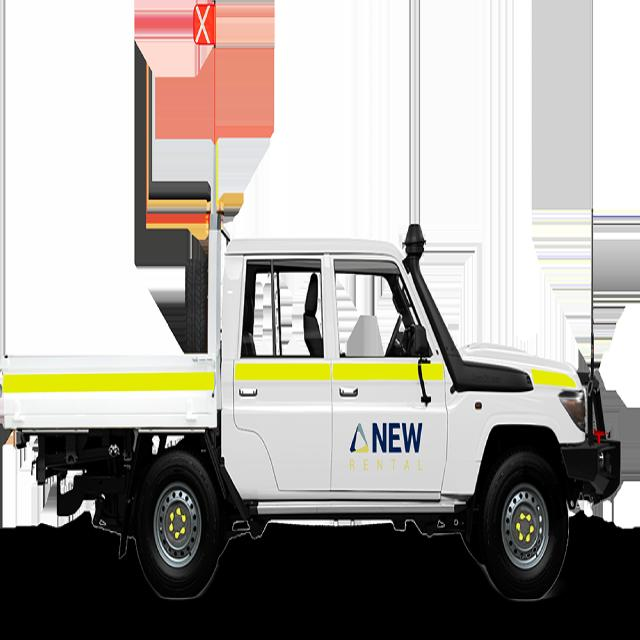light_vehicle: (4, 95, 628, 623)
